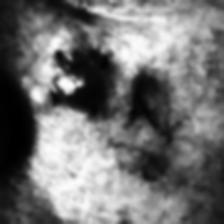Potentially Malignant Skin Tumors: (50, 64, 104, 104)
